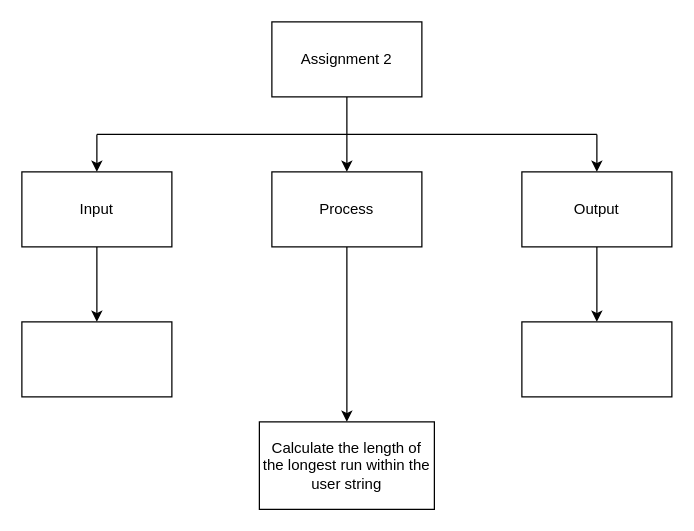
Some shapes in this 694 by 531 pixel diagram are drawn without their labels. Each missing label, with the box of its shape:
Get userInput: (21, 321, 172, 397)
Return runLength: (521, 321, 672, 397)
